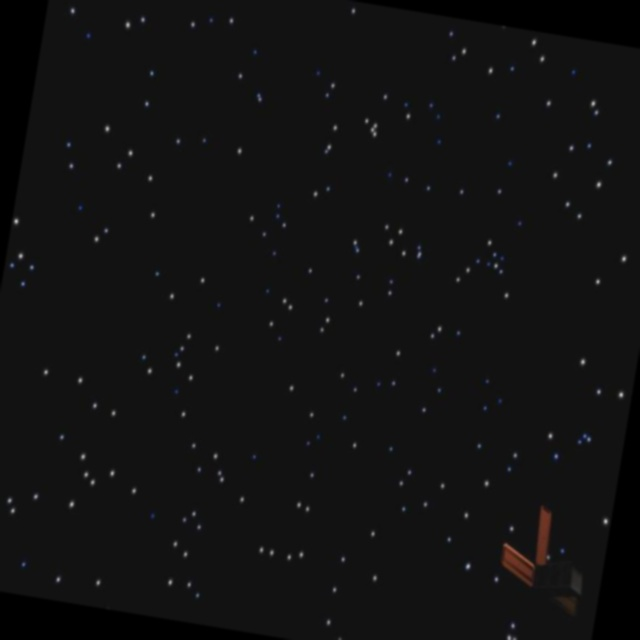medium_debris: (483, 503, 599, 640)
